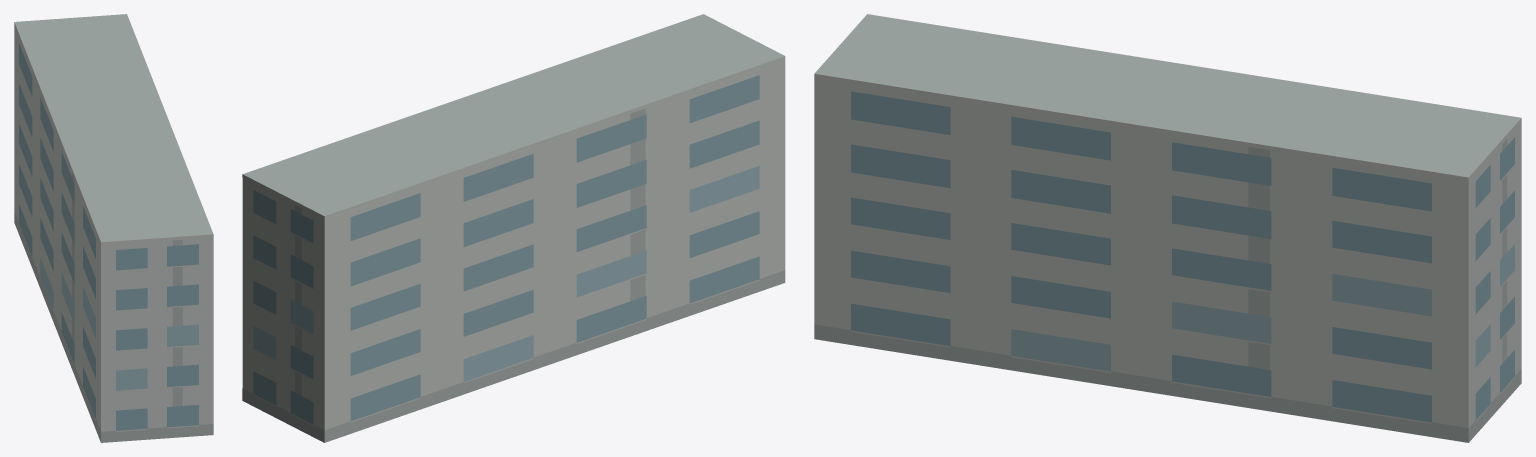
File: residential-3cf5b112-3b14-437d-bfdc-2cf32aa80859.glb
The picture shows the model from 3 angles, left to right: view 1: azimuth 30°, elevation 25°; view 2: azimuth 150°, elevation 25°; view 3: azimuth 270°, elevation 25°; orthographic projection. The views are drawn at different scales.
Visible parts, largest first — view 1: residential-3cf5b112-3b14-437d-bfdc-2cf32aa80859.tmp; view 2: residential-3cf5b112-3b14-437d-bfdc-2cf32aa80859.tmp; view 3: residential-3cf5b112-3b14-437d-bfdc-2cf32aa80859.tmp.
Boxes of the visible parts, x1,y1,x2,y2 form: residential-3cf5b112-3b14-437d-bfdc-2cf32aa80859.tmp: (14, 14, 213, 442); residential-3cf5b112-3b14-437d-bfdc-2cf32aa80859.tmp: (242, 14, 785, 442); residential-3cf5b112-3b14-437d-bfdc-2cf32aa80859.tmp: (814, 14, 1521, 442).
Size of the model in its own units: 20.16 by 15.25 by 36.85.
